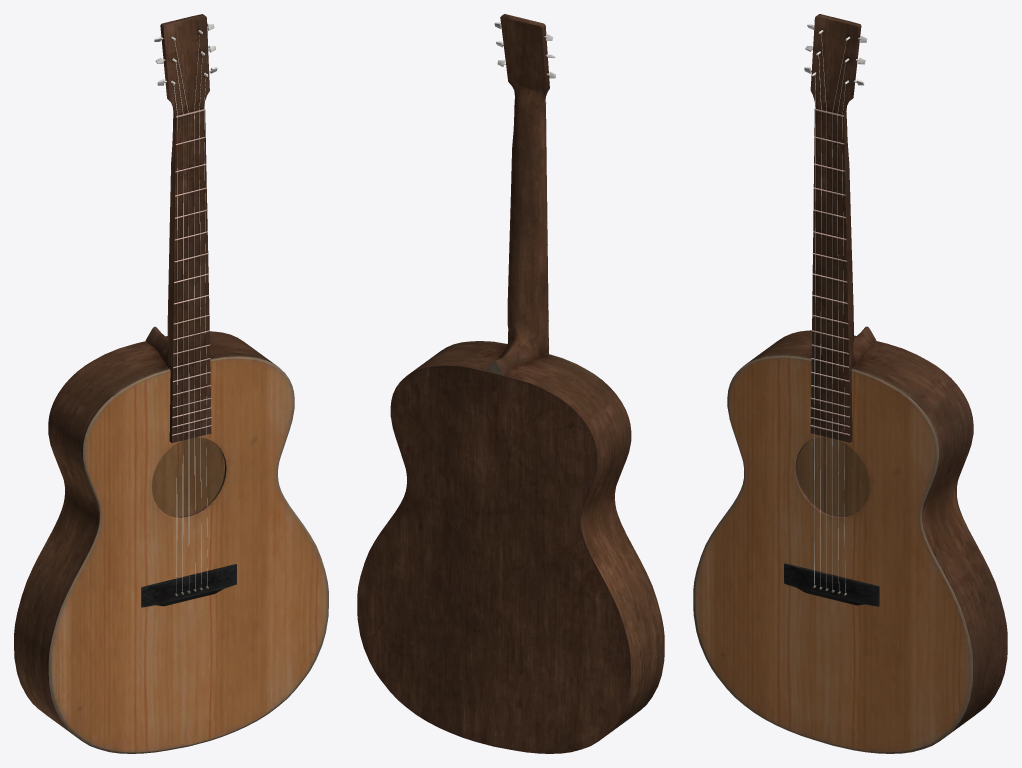
The model's file is sf-acoustic-guitar.glb.
The picture shows the model from 3 angles, left to right: view 1: azimuth 30°, elevation 25°; view 2: azimuth 150°, elevation 25°; view 3: azimuth 330°, elevation 25°; orthographic projection. The views are drawn at different scales.
Parts seen in each view (by area): view 1: Plane.000_Material.001_0; view 2: Plane.000_Material.001_0; view 3: Plane.000_Material.001_0.
Part boxes in pixels (box(x1,y1,x2,y2)): Plane.000_Material.001_0: box(14, 14, 328, 753); Plane.000_Material.001_0: box(357, 14, 664, 753); Plane.000_Material.001_0: box(693, 14, 1007, 753).
Bounding box in the file's own units: 0.4026 × 1 × 0.096.
1 material, 1 textured.
